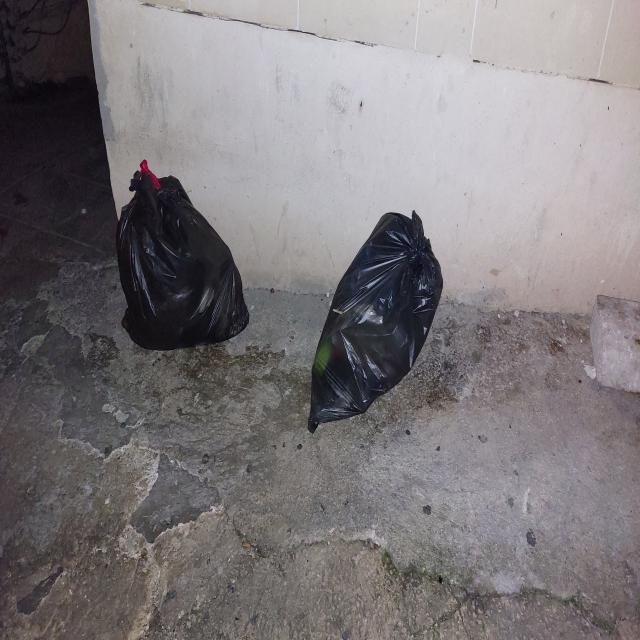Mixed Waste -Black Bag-: (308, 213, 443, 437), (118, 162, 251, 350)
